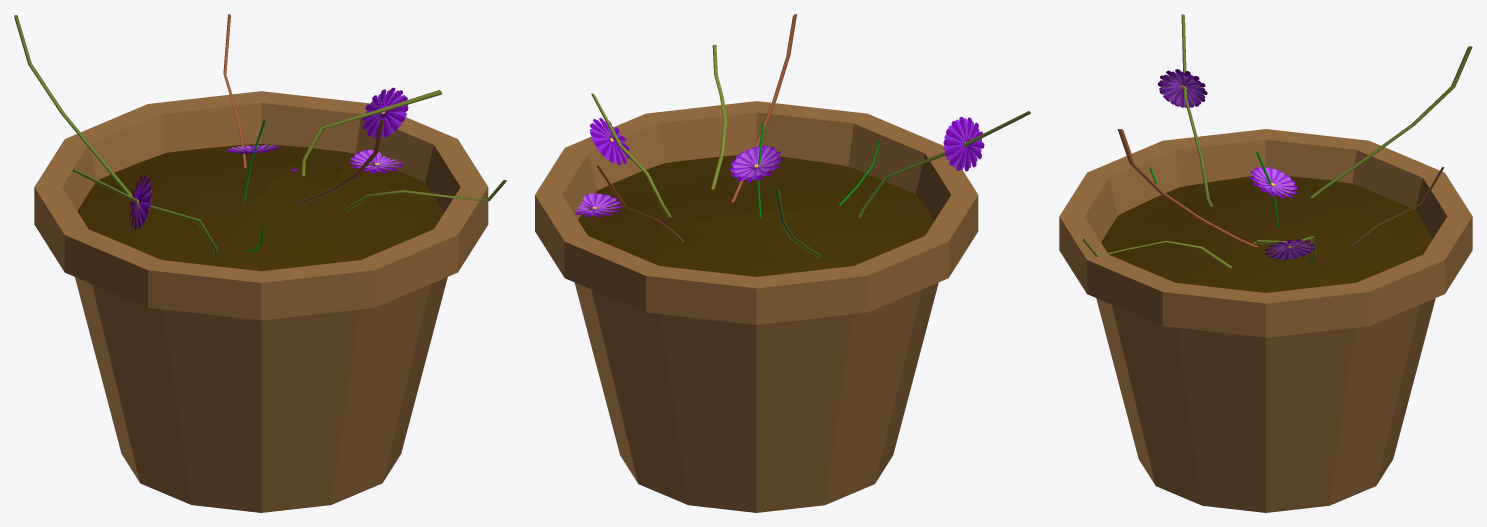
The model's file is Flower2_Frame3.fbx.
3 views of the same model, side by side, from view 1: azimuth 30°, elevation 25°; view 2: azimuth 150°, elevation 25°; view 3: azimuth 270°, elevation 25° (orthographic). The views are drawn at different scales.
Visible parts, largest first — view 1: Cylinder.002, Circle.004, BézierCurve.002, BézierCurve.001|Circle|Dupli|, BézierCurve.001, BézierCurve.005, BézierCurve.002|Circle|Dupli|, Circle.004|Circle|Dupli|; view 2: Cylinder.002, Circle.004, BézierCurve.002|Circle|Dupli|, BézierCurve.003|Circle|Dupli|, BézierCurve.001, BézierCurve.002, BézierCurve.001|Circle|Dupli|, BézierCurve.005, Circle.004|Circle|Dupli|; view 3: Cylinder.002, Circle.004, BézierCurve.002, BézierCurve.002|Circle|Dupli|, BézierCurve.005, BézierCurve.003|Circle|Dupli|, BézierCurve.001, BézierCurve.001|Circle|Dupli|.
Part boxes in pixels (x1,y1,x2,y2): Cylinder.002: [34, 91, 488, 512]; Circle.004: [77, 144, 443, 271]; BézierCurve.002: [14, 15, 217, 254]; BézierCurve.001|Circle|Dupli|: [362, 87, 408, 138]; BézierCurve.001: [301, 90, 506, 211]; BézierCurve.005: [223, 14, 383, 203]; BézierCurve.002|Circle|Dupli|: [130, 174, 151, 229]; Circle.004|Circle|Dupli|: [349, 149, 403, 173]; Cylinder.002: [535, 101, 978, 512]; Circle.004: [578, 155, 934, 276]; BézierCurve.002|Circle|Dupli|: [943, 117, 984, 171]; BézierCurve.003|Circle|Dupli|: [729, 145, 782, 182]; BézierCurve.001: [591, 44, 727, 217]; BézierCurve.002: [774, 111, 1030, 258]; BézierCurve.001|Circle|Dupli|: [590, 117, 629, 165]; BézierCurve.005: [596, 14, 796, 242]; Circle.004|Circle|Dupli|: [575, 193, 622, 217]; Cylinder.002: [1059, 129, 1472, 512]; Circle.004: [1101, 176, 1432, 292]; BézierCurve.002: [1181, 14, 1472, 206]; BézierCurve.002|Circle|Dupli|: [1157, 69, 1207, 107]; BézierCurve.005: [1117, 129, 1444, 250]; BézierCurve.003|Circle|Dupli|: [1250, 166, 1297, 198]; BézierCurve.001: [1081, 235, 1316, 268]; BézierCurve.001|Circle|Dupli|: [1265, 239, 1314, 259].
Size of the model in its own units: 2.48 by 2.13 by 2.26.
